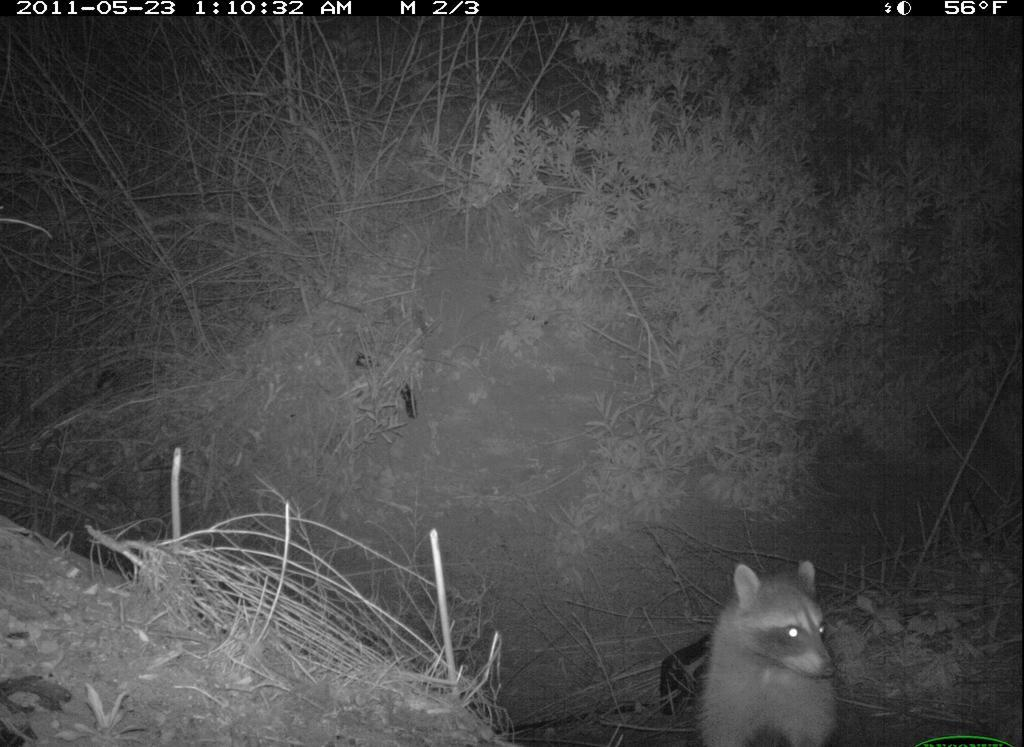raccoon: (690, 559, 857, 747)
